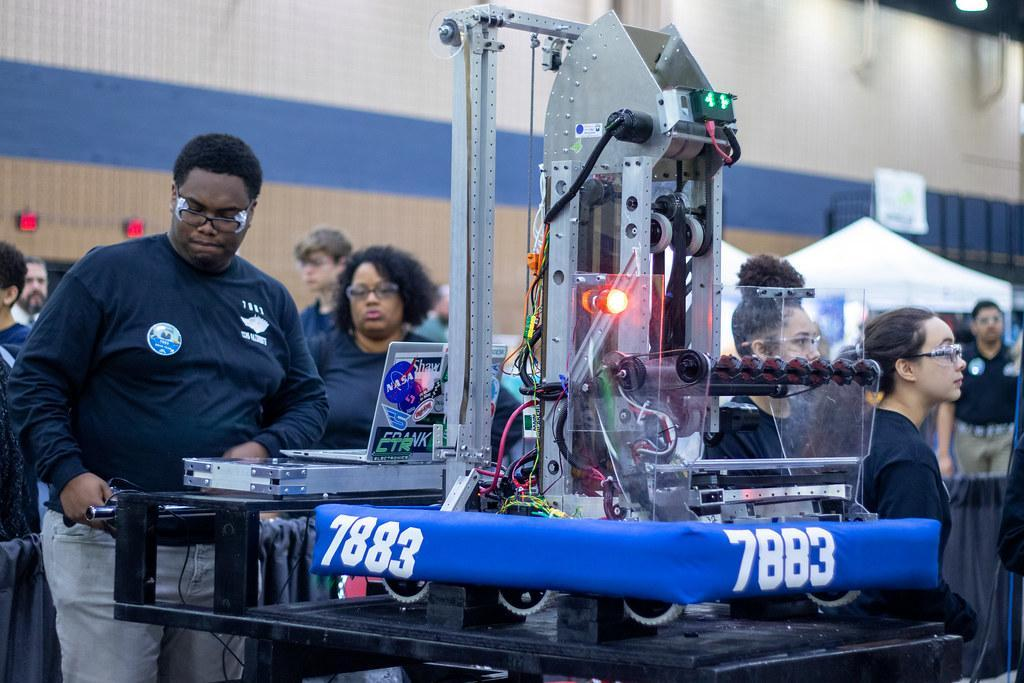robot: (310, 0, 945, 633)
